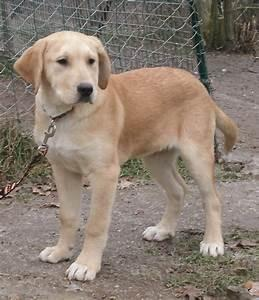dog: (12, 29, 238, 281)
